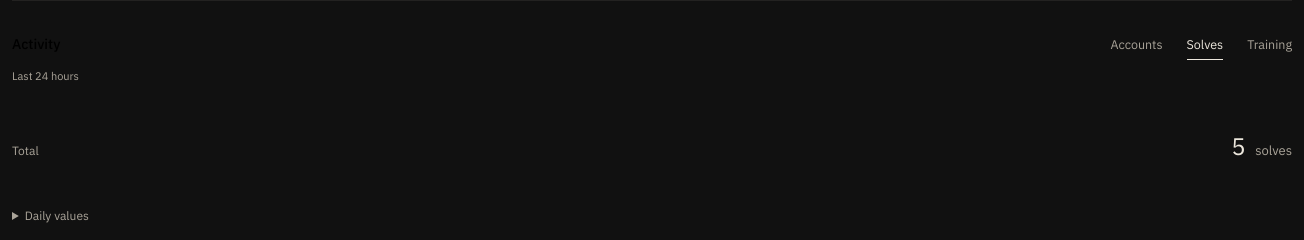
Test: shows an exact last-24-hour total instead of a daily trend
The width and height of the screenshot is (1304, 240).
expect the text "Last 24 hours" is shown: met, box [12, 69, 79, 83]
expect the text "5" is shown: met, box [1231, 130, 1246, 162]
What coordinates should you click on to do the following:
click the radio button labelled "Training"
I would click on:
 (1270, 44)
Its box is [1247, 25, 1292, 63].
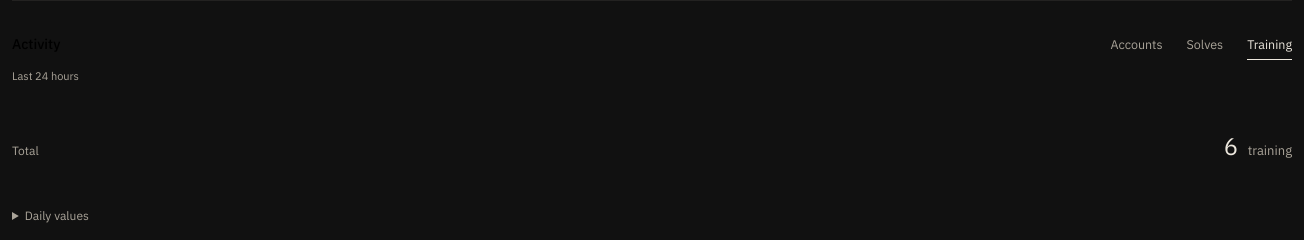
expect the text "6" is shown: met, box [1224, 130, 1238, 162]
